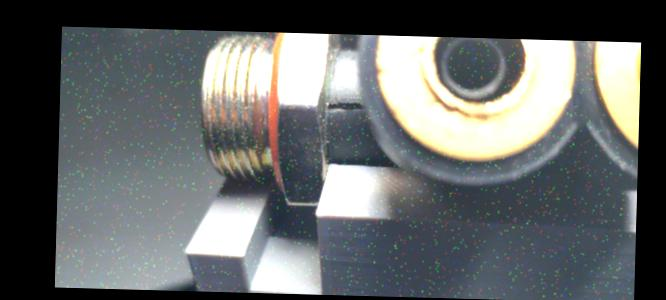craze: (326, 98, 364, 117)
